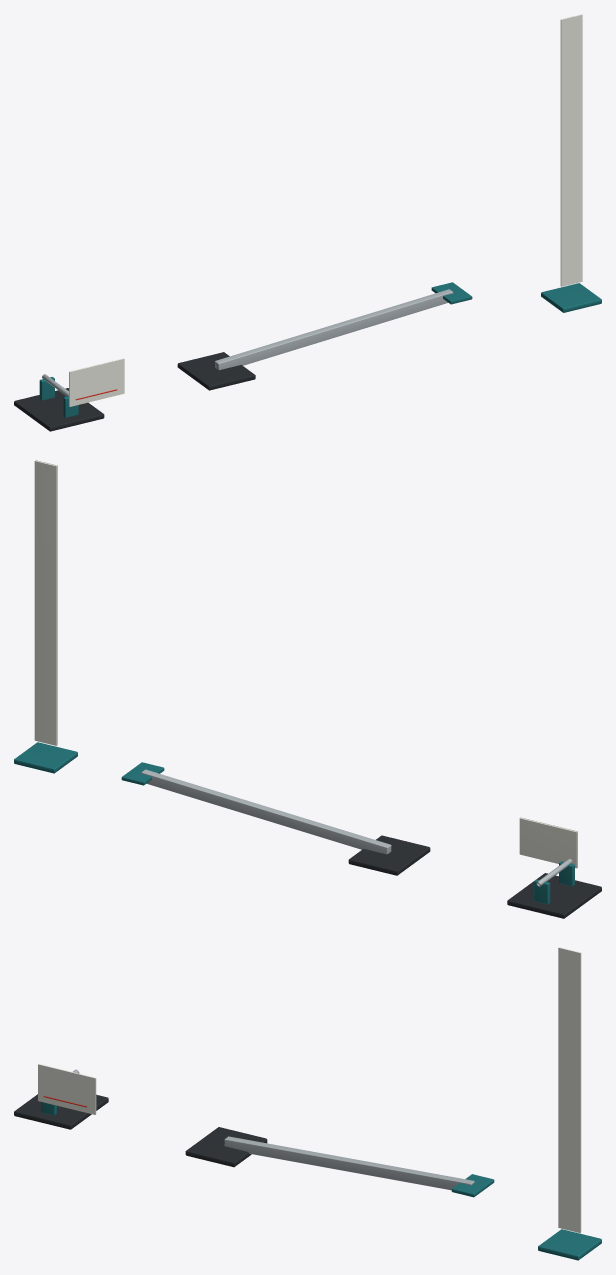
File: VLAB_incline_base.fbx
3 views of the same model, one above another, from view 1: azimuth 30°, elevation 25°; view 2: azimuth 150°, elevation 25°; view 3: azimuth 330°, elevation 25° (orthographic). The views are drawn at different scales.
Parts seen in each view (by area): view 1: VLAB_incline_base_HeightScale_VIS, VLAB_incline_base_SupportLeg_VIS, VLAB_incline_base_Hinge_VIS, VLAB_incline_base_AngleScale_VIS, VLAB_incline_base_SupportFoot_VIS, VLAB_incline_base_RulerFoot_VIS; view 2: VLAB_incline_base_HeightScale_VIS, VLAB_incline_base_SupportLeg_VIS, VLAB_incline_base_Hinge_VIS, VLAB_incline_base_AngleScale_VIS, VLAB_incline_base_SupportFoot_VIS, VLAB_incline_base_RulerFoot_VIS; view 3: VLAB_incline_base_HeightScale_VIS, VLAB_incline_base_SupportLeg_VIS, VLAB_incline_base_AngleScale_VIS, VLAB_incline_base_SupportFoot_VIS, VLAB_incline_base_Hinge_VIS, VLAB_incline_base_RulerFoot_VIS, VLAB_incline_base_RailShoe_VIS.
Boxes of the visible parts, bbox=[...] form: VLAB_incline_base_HeightScale_VIS: bbox=[560, 14, 582, 286]; VLAB_incline_base_SupportLeg_VIS: bbox=[214, 289, 453, 370]; VLAB_incline_base_Hinge_VIS: bbox=[14, 377, 104, 431]; VLAB_incline_base_AngleScale_VIS: bbox=[69, 358, 124, 406]; VLAB_incline_base_SupportFoot_VIS: bbox=[177, 352, 255, 390]; VLAB_incline_base_RulerFoot_VIS: bbox=[541, 283, 601, 312]; VLAB_incline_base_HeightScale_VIS: bbox=[34, 460, 57, 745]; VLAB_incline_base_SupportLeg_VIS: bbox=[141, 769, 391, 854]; VLAB_incline_base_Hinge_VIS: bbox=[507, 861, 601, 918]; VLAB_incline_base_AngleScale_VIS: bbox=[519, 817, 577, 868]; VLAB_incline_base_SupportFoot_VIS: bbox=[348, 835, 430, 875]; VLAB_incline_base_RulerFoot_VIS: bbox=[14, 742, 77, 773]; VLAB_incline_base_HeightScale_VIS: bbox=[558, 947, 581, 1233]; VLAB_incline_base_SupportLeg_VIS: bbox=[224, 1136, 474, 1190]; VLAB_incline_base_AngleScale_VIS: bbox=[38, 1064, 96, 1114]; VLAB_incline_base_SupportFoot_VIS: bbox=[185, 1127, 267, 1167]; VLAB_incline_base_Hinge_VIS: bbox=[14, 1094, 108, 1129]; VLAB_incline_base_RulerFoot_VIS: bbox=[538, 1229, 601, 1260]; VLAB_incline_base_RailShoe_VIS: bbox=[451, 1174, 494, 1197].
Bounding box in the file's own units: 1.39 × 0.69 × 0.19.
